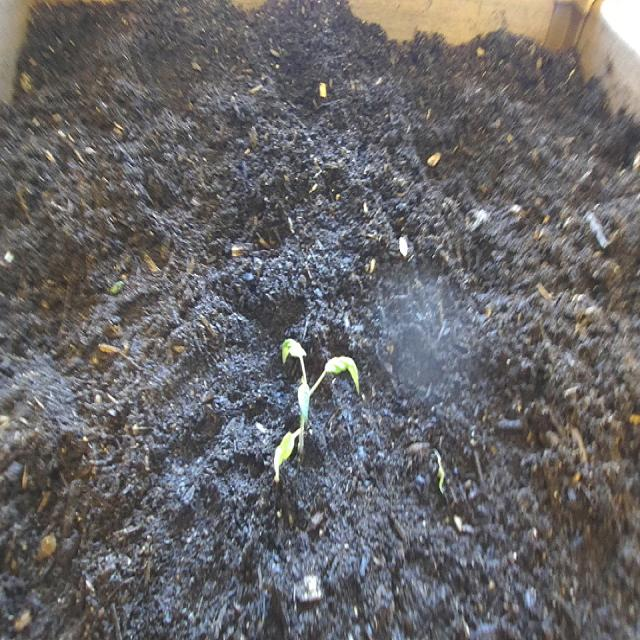Healthy: (272, 332, 362, 491)
